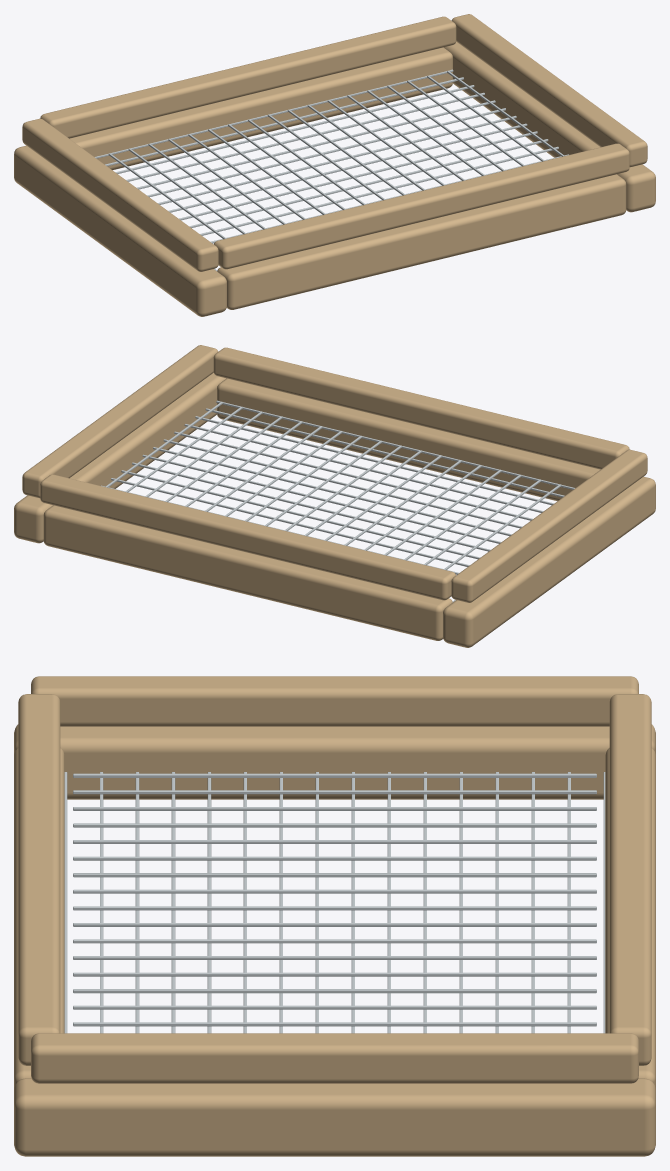
File: bookbinding-and-paper-mill-mould-and-deckle-43b31ccf__30548.glb
3 views of the same model, one above another, from view 1: azimuth 30°, elevation 25°; view 2: azimuth 150°, elevation 25°; view 3: azimuth 270°, elevation 25° (orthographic). The views are drawn at different scales.
Visible parts, largest first — view 1: mould-and-deckle; view 2: mould-and-deckle; view 3: mould-and-deckle.
Part boxes in pixels (x1,y1,x2,y2): mould-and-deckle: (14,14,655,316); mould-and-deckle: (14,345,655,647); mould-and-deckle: (14,676,655,1156).
Size of the model in its own units: 0.535 by 0.071 by 0.38.
